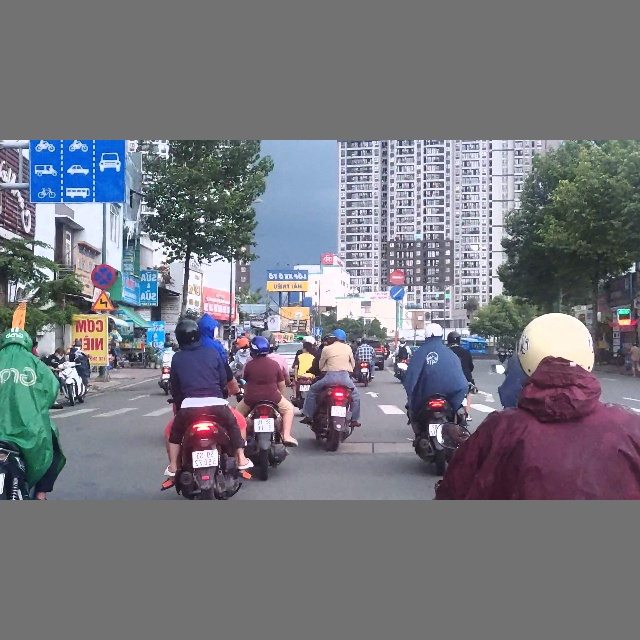I.407a: (314, 327, 322, 335)
I.434a: (243, 320, 251, 331)
P.102: (389, 270, 405, 285)
P.130: (91, 264, 116, 289)
R.302a: (388, 286, 406, 301)
R.415a: (29, 140, 126, 203)
W.202b: (91, 290, 114, 311)
